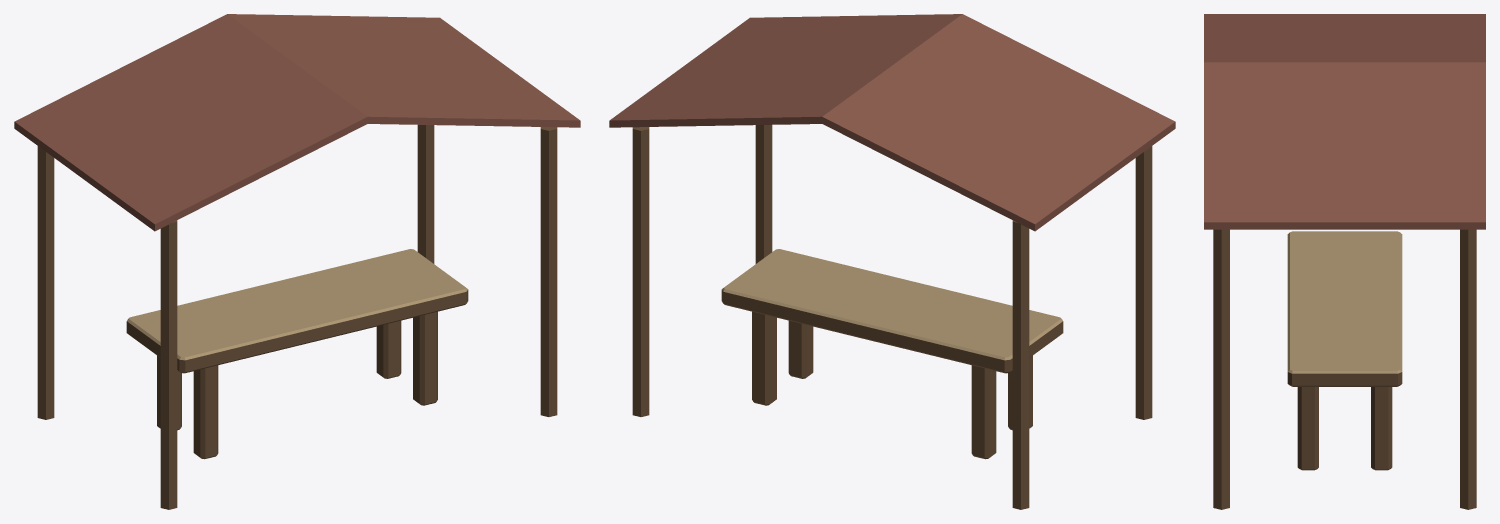
The model's file is market-awning.glb.
3 views of the same model, side by side, from view 1: azimuth 30°, elevation 25°; view 2: azimuth 150°, elevation 25°; view 3: azimuth 270°, elevation 25° (orthographic).
Parts seen in each view (by area): view 1: market-awning__body; view 2: market-awning__body; view 3: market-awning__body.
Part boxes in pixels (x1,y1,x2,y2): market-awning__body: (14, 14, 580, 509); market-awning__body: (609, 14, 1175, 509); market-awning__body: (1204, 14, 1485, 509).
Bounding box in the file's own units: 2.8 × 2.19 × 1.6.
